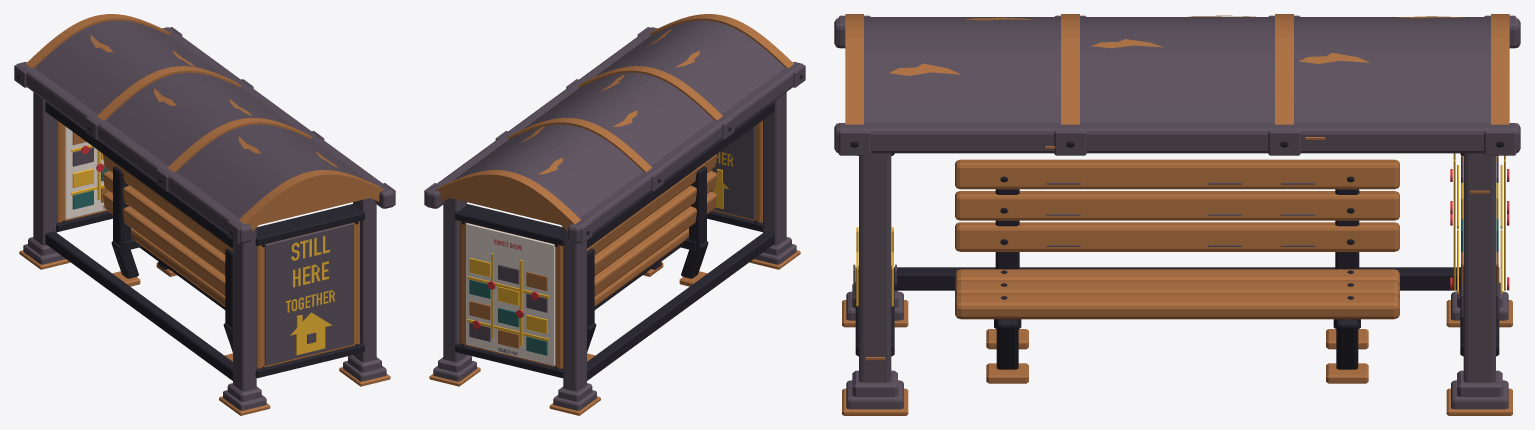
Rendered from bld.bus-stop.glb.
3 renders of one model, left to right at view 1: azimuth 30°, elevation 25°; view 2: azimuth 150°, elevation 25°; view 3: azimuth 270°, elevation 25°, orthographic. The views are drawn at different scales.
Parts seen in each view (by area): view 1: object 2, roof; view 2: object 2, roof; view 3: object 2, roof.
Boxes of the visible parts, box(x1,y1,x2,y2) form: object 2: box(19, 92, 390, 415); roof: box(14, 14, 395, 243); object 2: box(429, 92, 800, 415); roof: box(424, 14, 805, 243); object 2: box(842, 153, 1512, 415); roof: box(834, 14, 1520, 155).
Size of the model in its own units: 2.04 by 2.68 by 4.97.
